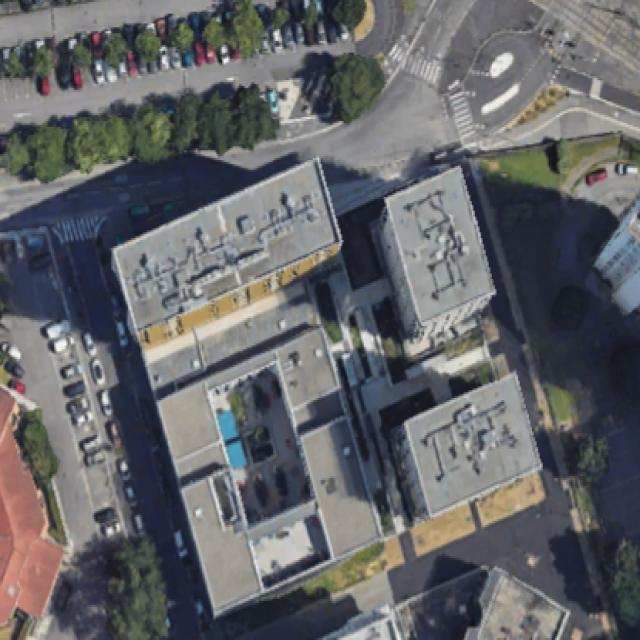immeuble: (90, 134, 364, 368), (376, 373, 552, 520), (366, 168, 501, 345)
